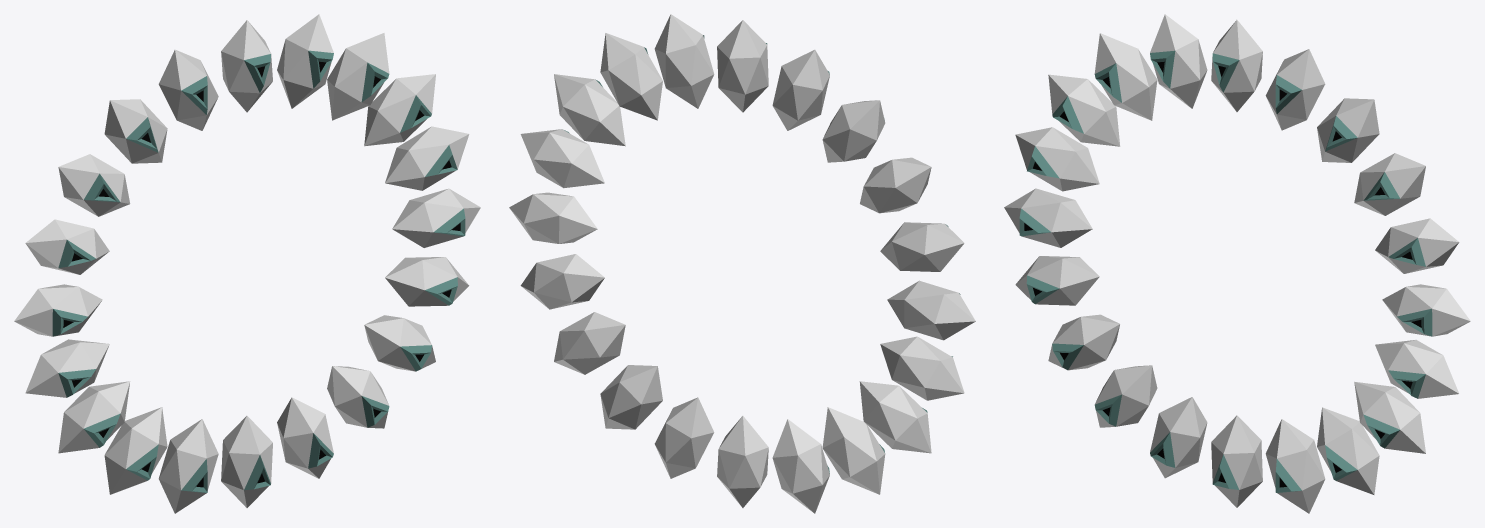
Rendered from God Eyes.fbx.
3 views of the same model, side by side, from view 1: azimuth 30°, elevation 25°; view 2: azimuth 150°, elevation 25°; view 3: azimuth 330°, elevation 25° (orthographic).
Parts seen in each view (by area): view 1: eyes; view 2: eyes; view 3: eyes.
Boxes of the visible parts, x1=… form: eyes: x1=14, y1=14, x2=480, y2=513; eyes: x1=509, y1=14, x2=975, y2=513; eyes: x1=1004, y1=14, x2=1470, y2=513.
Size of the model in its own units: 872 by 872 by 98.47.
